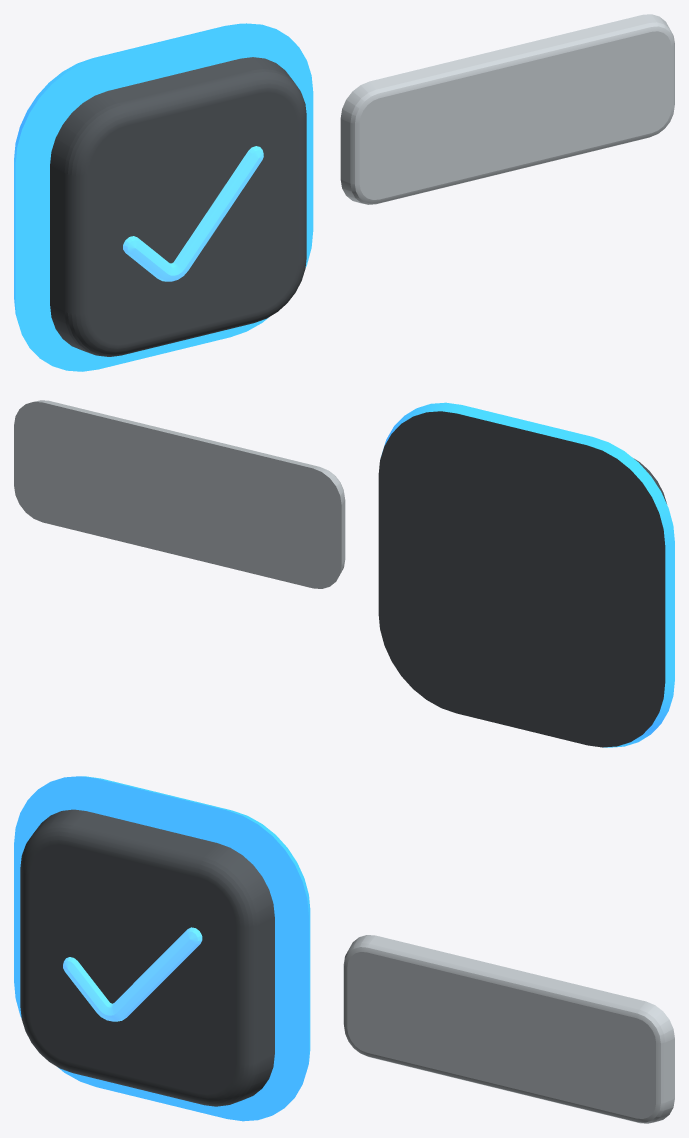
Rendered from checkbox-094277.glb.
3 renders of one model, top to bottom at view 1: azimuth 30°, elevation 25°; view 2: azimuth 150°, elevation 25°; view 3: azimuth 330°, elevation 25°, orthographic.
Visible parts, largest first — view 1: checkbox, checkbox-glow, checkbox-glyph; view 2: checkbox, checkbox-glow; view 3: checkbox, checkbox-glow, checkbox-glyph.
Part boxes in pixels (bbox=[...]): checkbox: bbox=[50, 14, 674, 356]; checkbox-glow: bbox=[14, 23, 313, 371]; checkbox-glyph: bbox=[123, 146, 263, 281]; checkbox: bbox=[14, 400, 666, 747]; checkbox-glow: bbox=[381, 402, 674, 747]; checkbox: bbox=[20, 809, 674, 1123]; checkbox-glow: bbox=[14, 776, 310, 1121]; checkbox-glyph: bbox=[63, 927, 202, 1021].
Size of the model in its own units: 0.08 by 0.036 by 0.0081.
